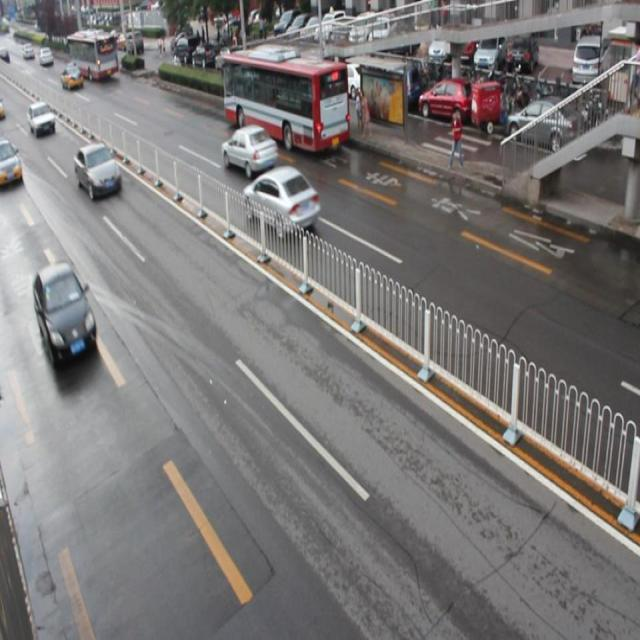car: (32, 262, 97, 364), (242, 163, 318, 238), (221, 124, 277, 177), (73, 142, 122, 200)
van: (223, 51, 349, 150)
